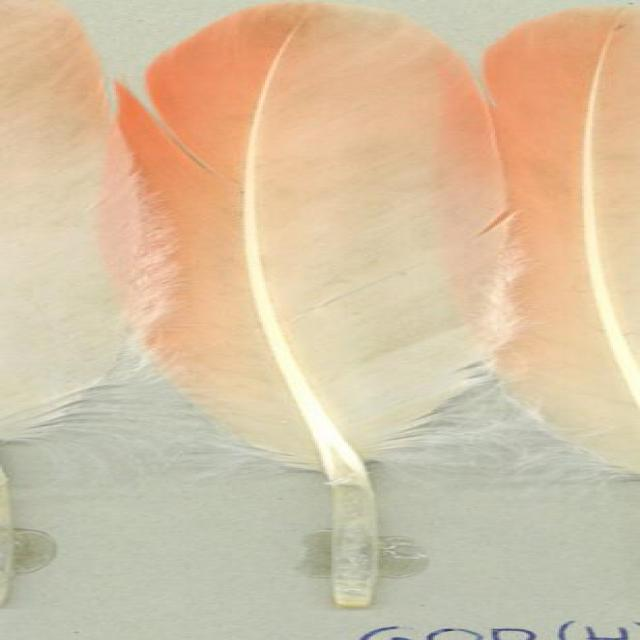feather: (107, 0, 546, 608)
